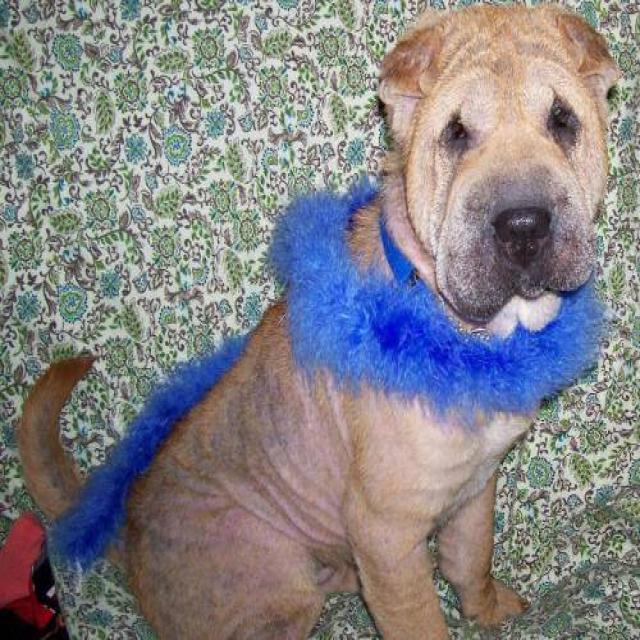dog: (12, 0, 622, 638)
